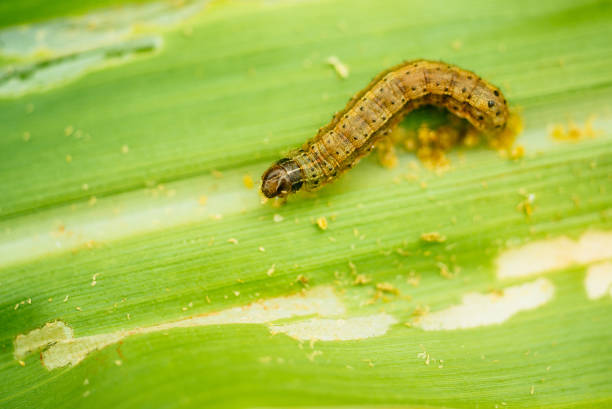Armyworm: (246, 47, 523, 229)
